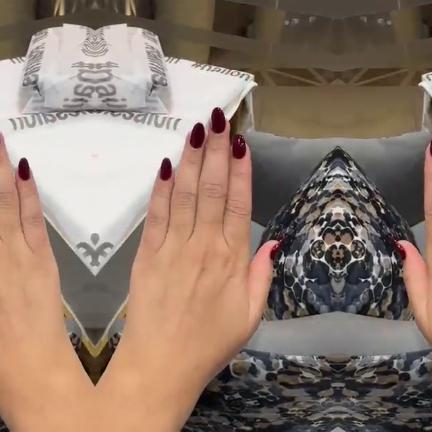Nail: (210, 107, 225, 134), (189, 122, 204, 148), (231, 133, 245, 159), (159, 157, 171, 180), (17, 157, 29, 180), (269, 239, 282, 260), (392, 239, 405, 260), (429, 135, 432, 157)
